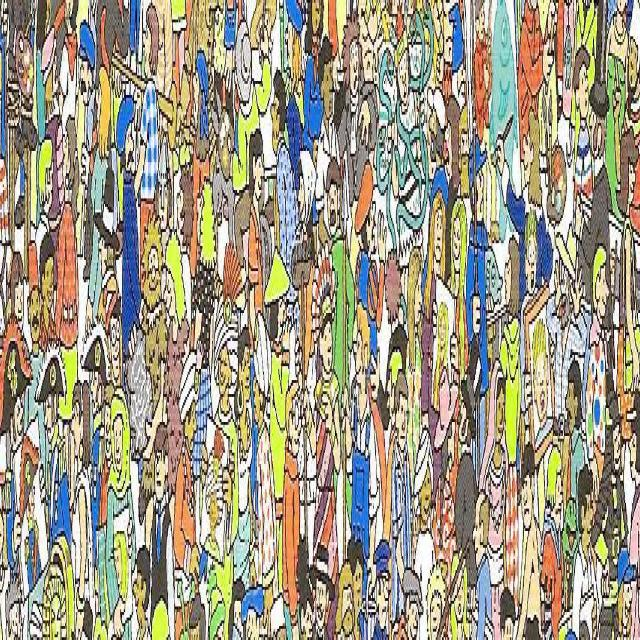waldo: (103, 285, 121, 380)
